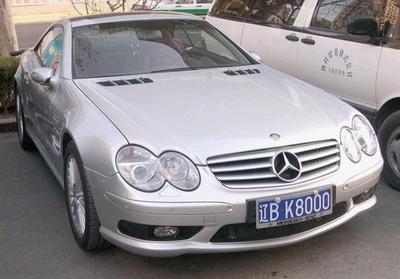plate_number: (257, 190, 333, 222)
